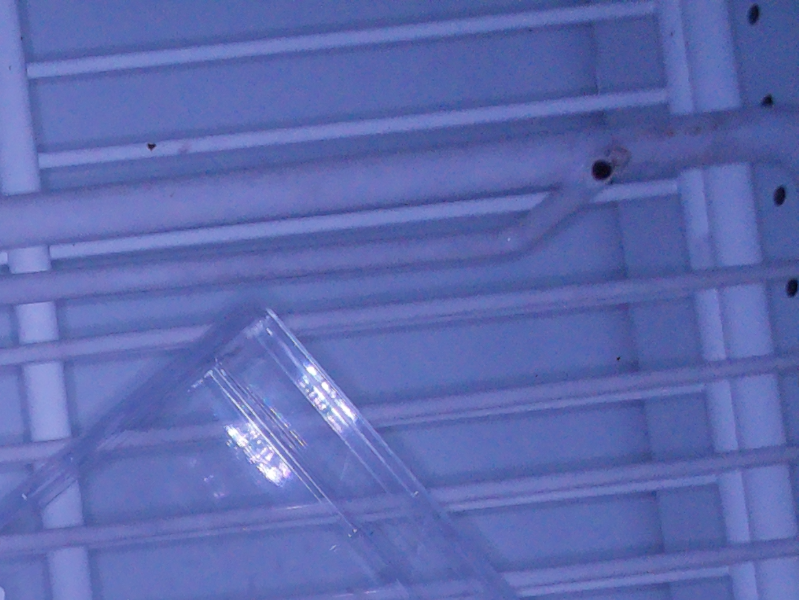plate: (1, 296, 525, 600)
